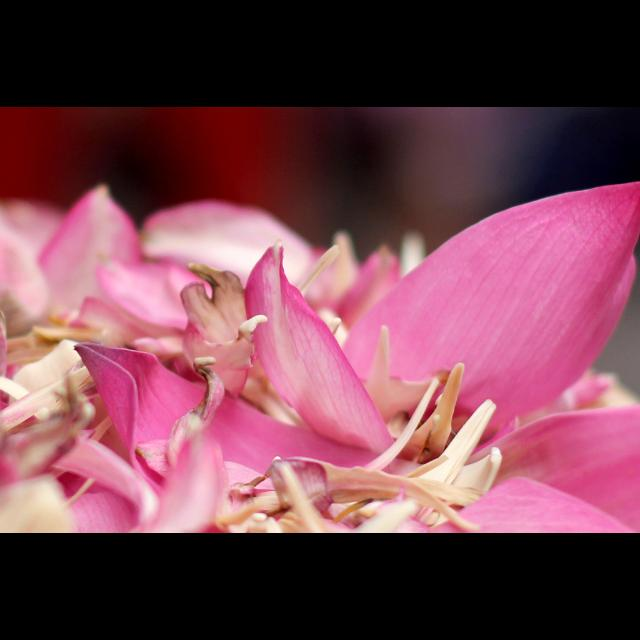Flower: (5, 179, 640, 533)
